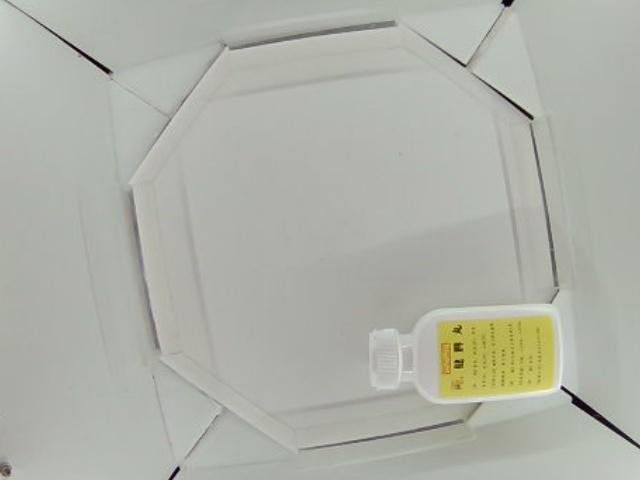Bottle: (367, 305, 564, 403)
